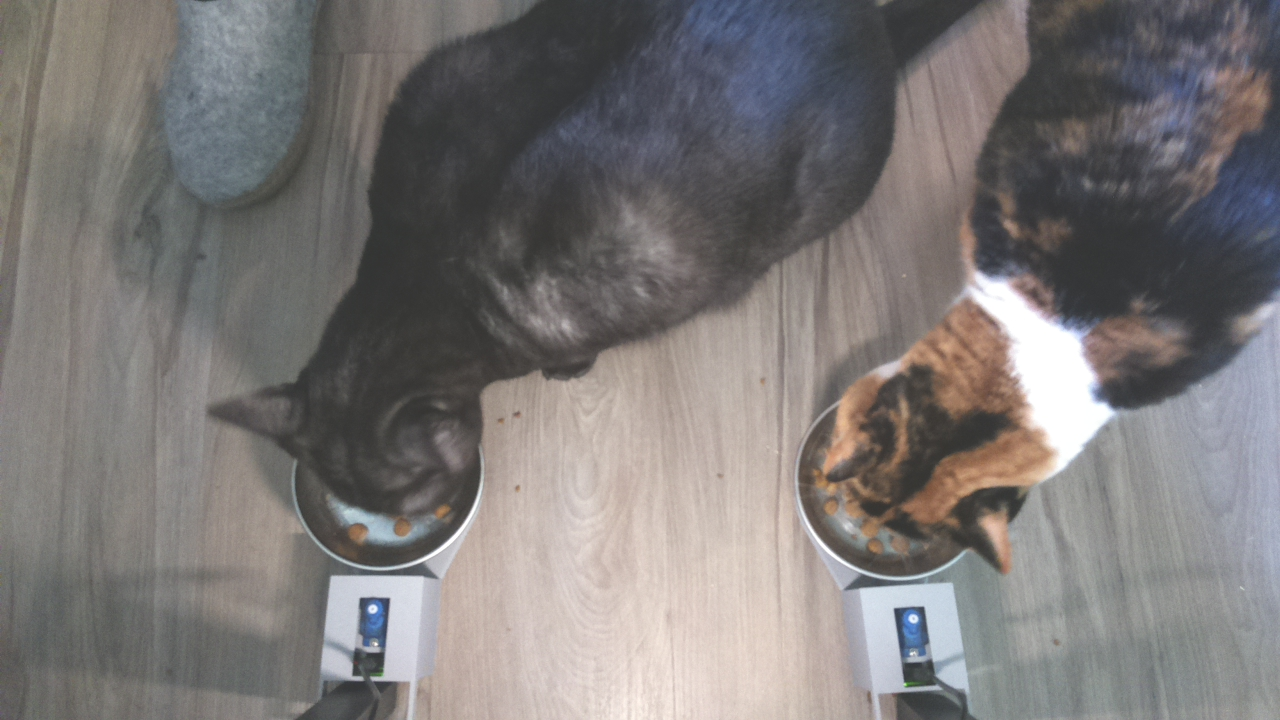bella_eating: (787, 318, 1072, 587)
saki_eating: (197, 292, 492, 589)
